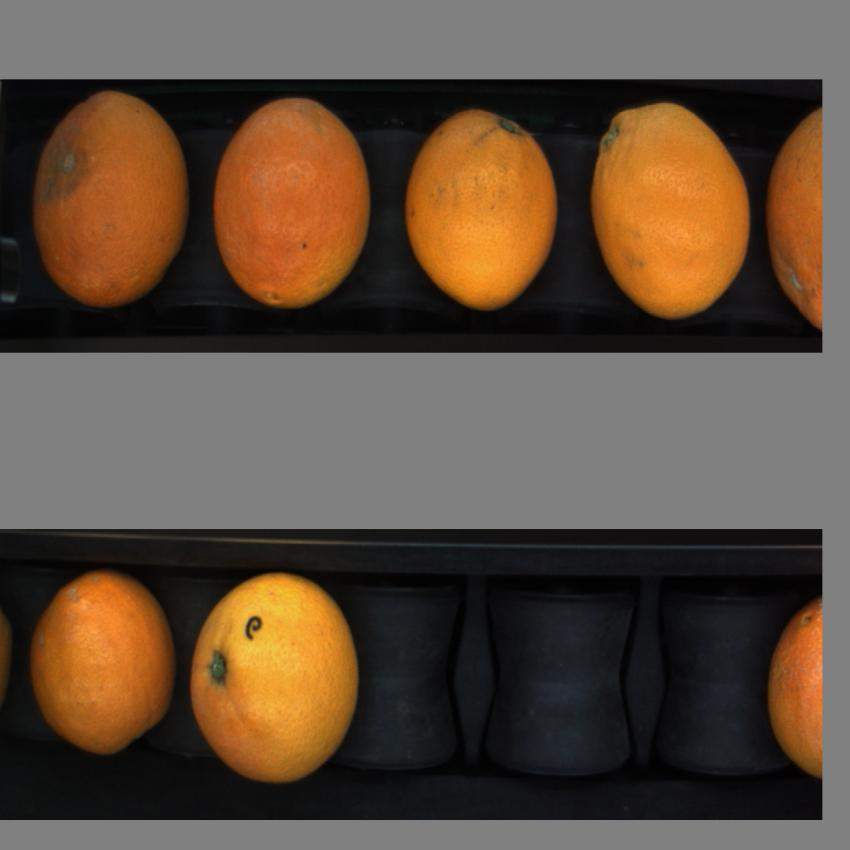Buen estado: (189, 560, 363, 800), (582, 96, 753, 325), (208, 91, 378, 321), (397, 100, 564, 318), (23, 558, 185, 768), (765, 97, 822, 345), (764, 587, 822, 801)
Mal estado: (30, 84, 189, 316)
